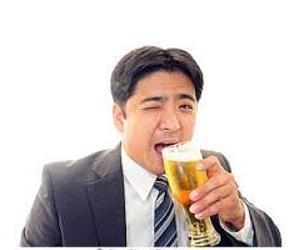Drunk: (130, 71, 198, 166)
